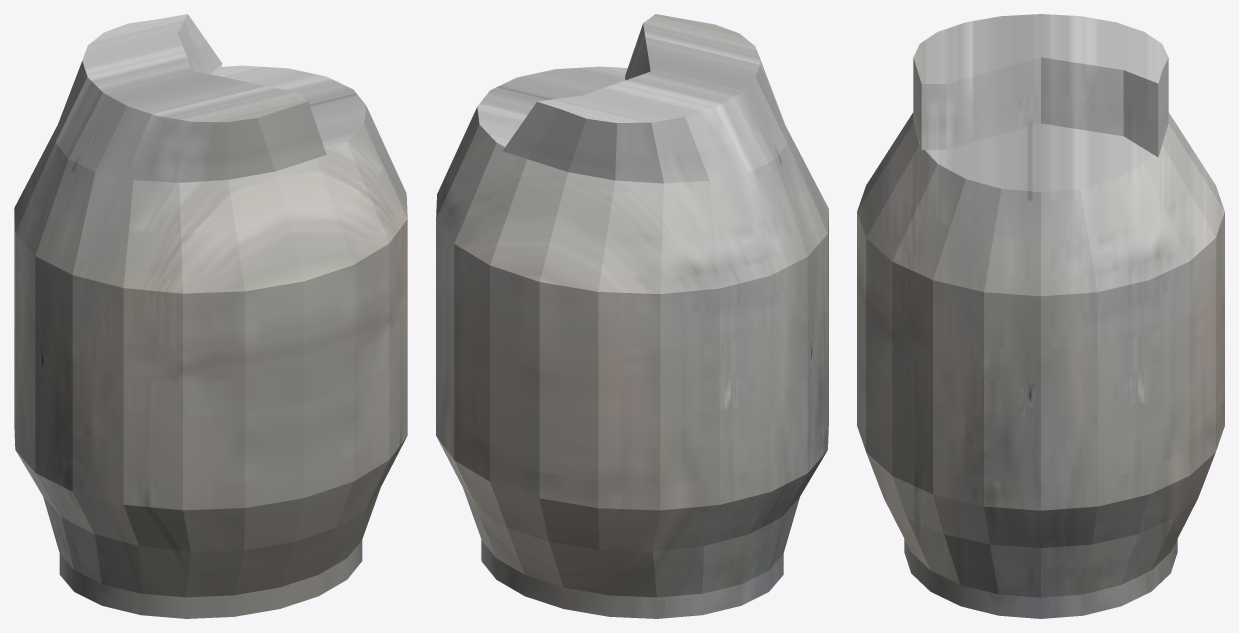
File: GasTank.fbx
3 views of the same model, side by side, from view 1: azimuth 30°, elevation 25°; view 2: azimuth 150°, elevation 25°; view 3: azimuth 270°, elevation 25° (orthographic).
Parts seen in each view (by area): view 1: pCylinder1; view 2: pCylinder1; view 3: pCylinder1.
Boxes of the visible parts, x1=… form: pCylinder1: x1=14, y1=14, x2=407, y2=618; pCylinder1: x1=436, y1=14, x2=828, y2=618; pCylinder1: x1=857, y1=14, x2=1224, y2=618.
Bounding box in the file's own units: 2.57 × 3.44 × 2.35.
Materials: 1 (1 with a texture image).
